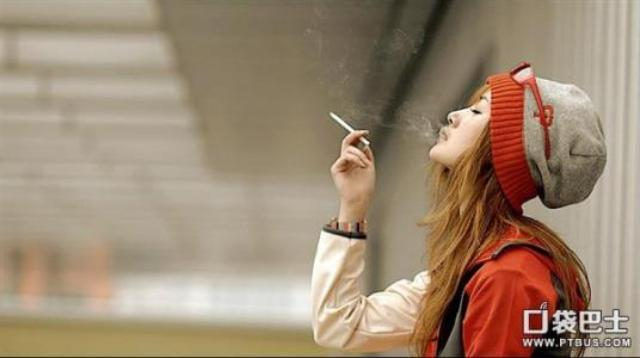Smoking: (324, 109, 372, 148)
